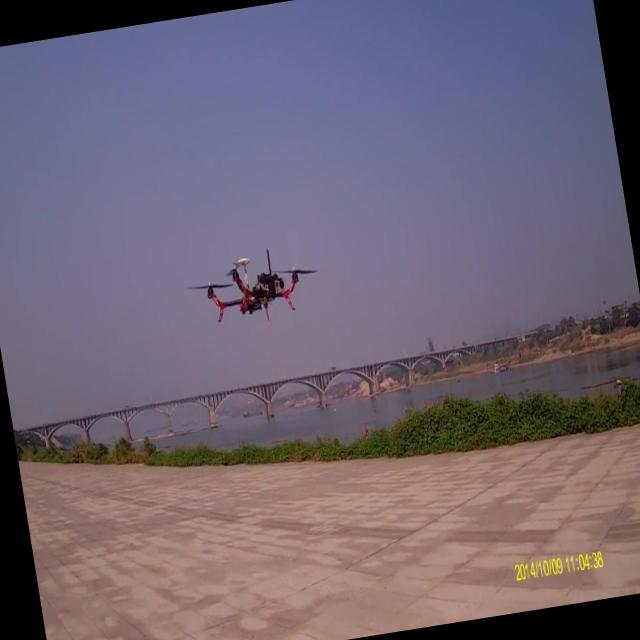drone: (182, 239, 326, 335)
